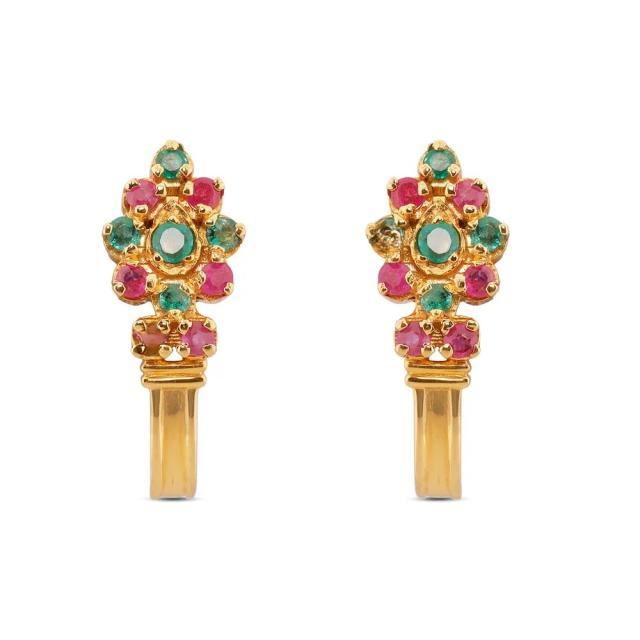missing gem: (372, 218, 405, 254), (136, 323, 167, 354)
